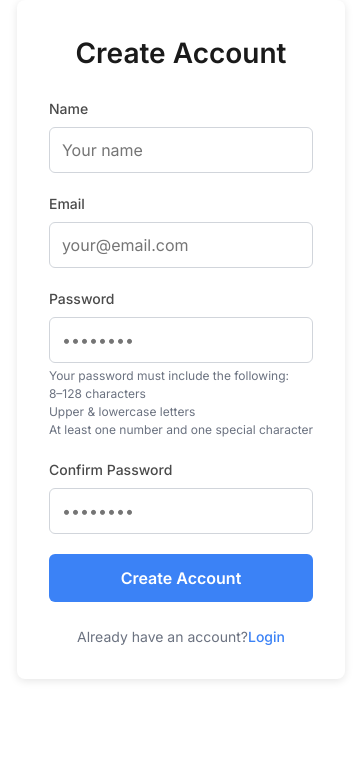
Test: RegisterForm - Validation Logic › should display error when name is missing
Type "test@example.com" into the field labelled "Email".
click(181, 245); type("test@example.com")  # box [49,222,313,268]
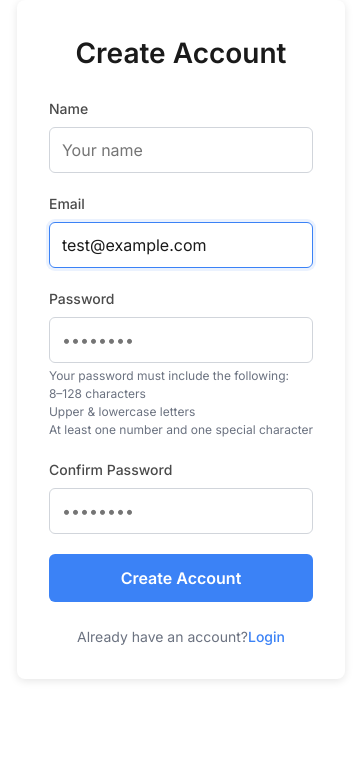
Type "Password123!" into the password field labelled "Password".
click(181, 340); type("Password123!")  # box [49,317,313,363]
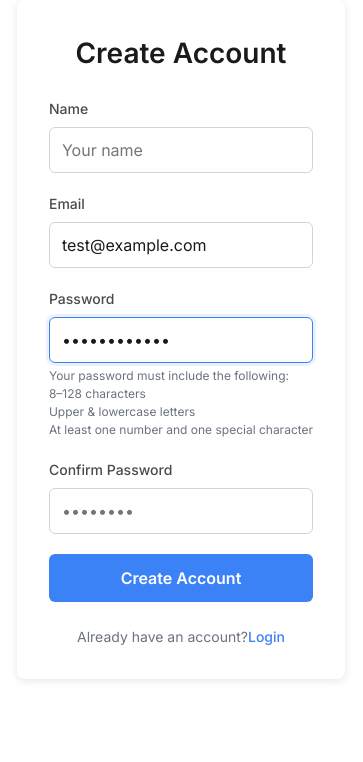
Type "Password123!" into the password field labelled "Confirm Password".
click(181, 511); type("Password123!")  # box [49,488,313,534]
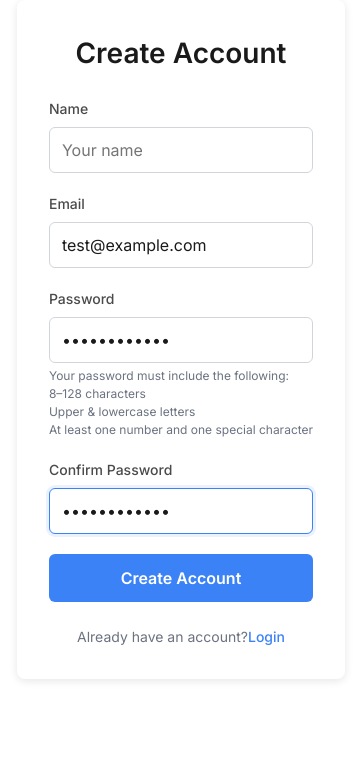
Submit the form "Create Account"
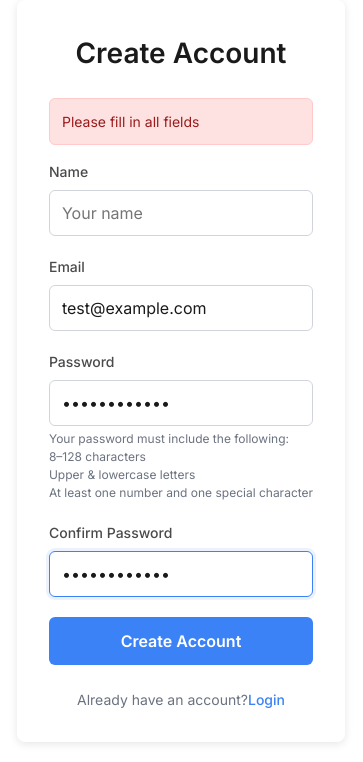
Now the message reads "Please fill in all fields", box [62,113,199,130]
